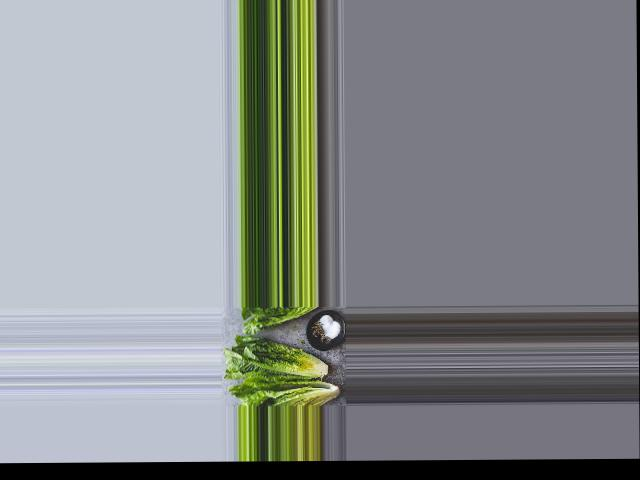lettuce: (237, 376, 346, 405)
